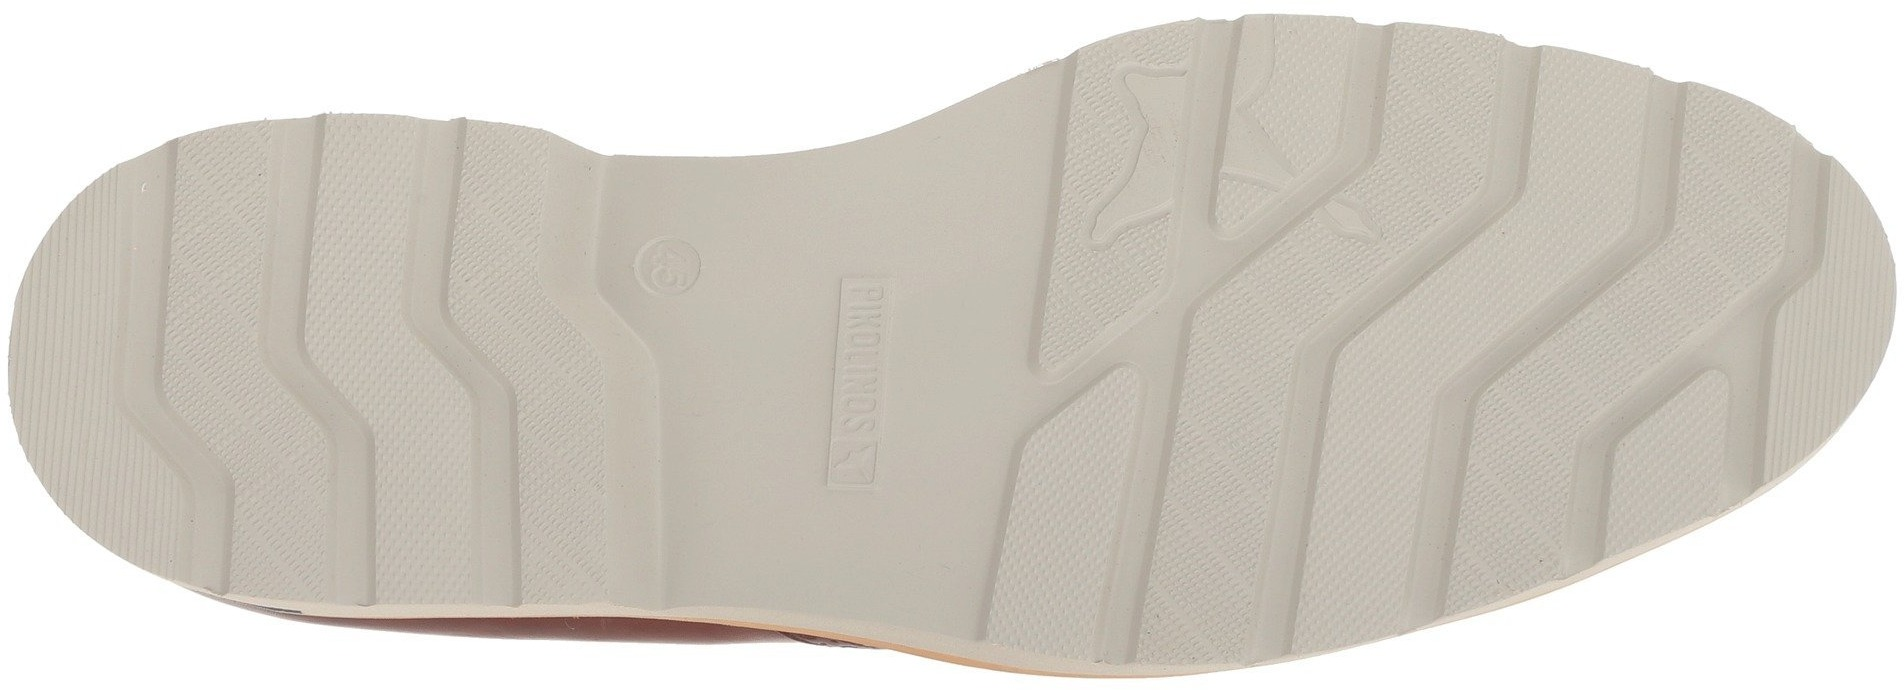chevron: (219, 135, 568, 596), (1348, 27, 1801, 318), (1235, 266, 1614, 577), (958, 375, 1399, 632), (1197, 301, 1647, 552), (1201, 7, 1377, 244), (347, 249, 512, 396)
circle: (629, 227, 713, 309)
line: (1201, 7, 1377, 244), (1796, 304, 1881, 383)
other: (941, 137, 1079, 241)
quad: (1201, 7, 1377, 244), (823, 258, 911, 515), (817, 270, 903, 515)
text: (817, 270, 903, 515), (629, 227, 713, 309)
